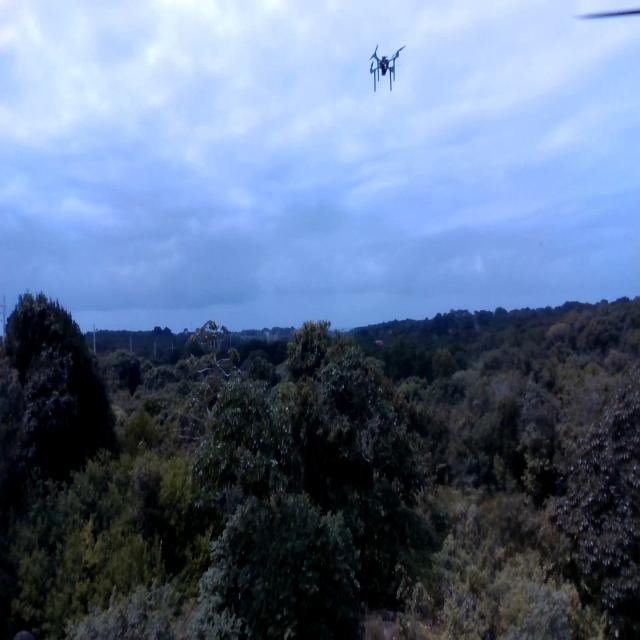-uav-: (359, 36, 410, 98)
